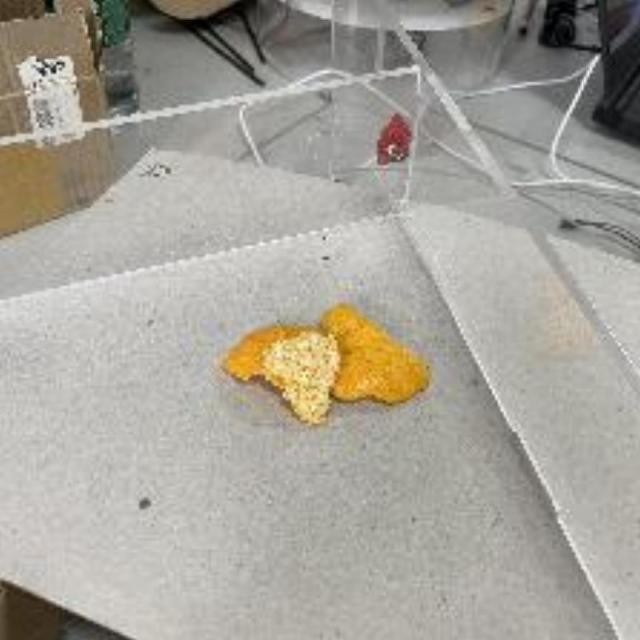orange-peel: (221, 296, 432, 428)
